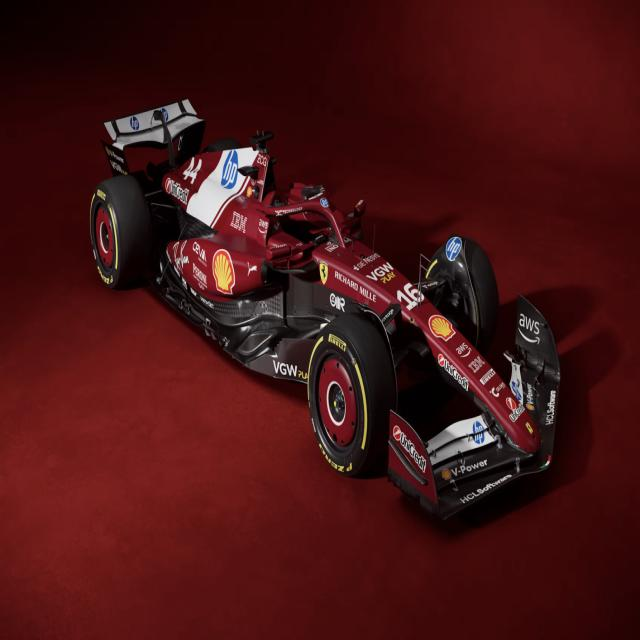Ferrari: (89, 92, 562, 526)
